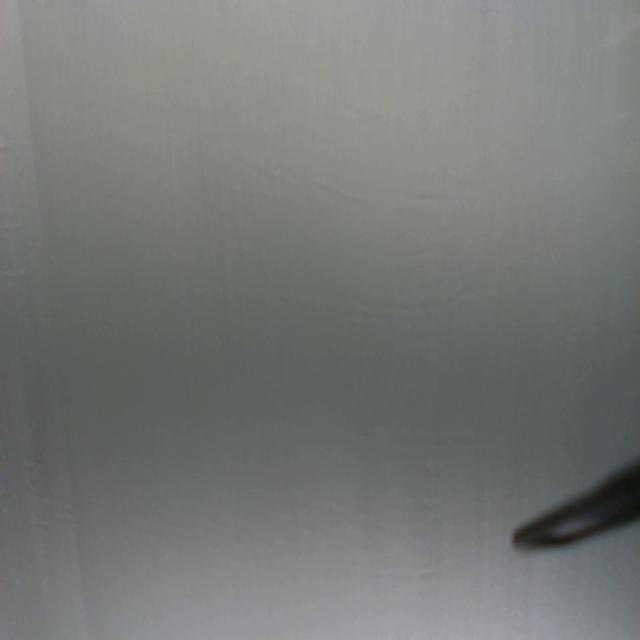crease: (0, 0, 90, 639)
